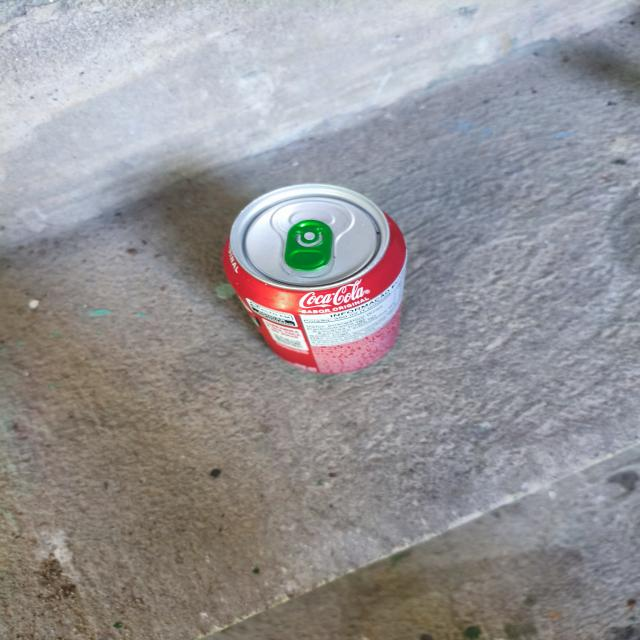Coca Cola: (199, 169, 522, 410)
